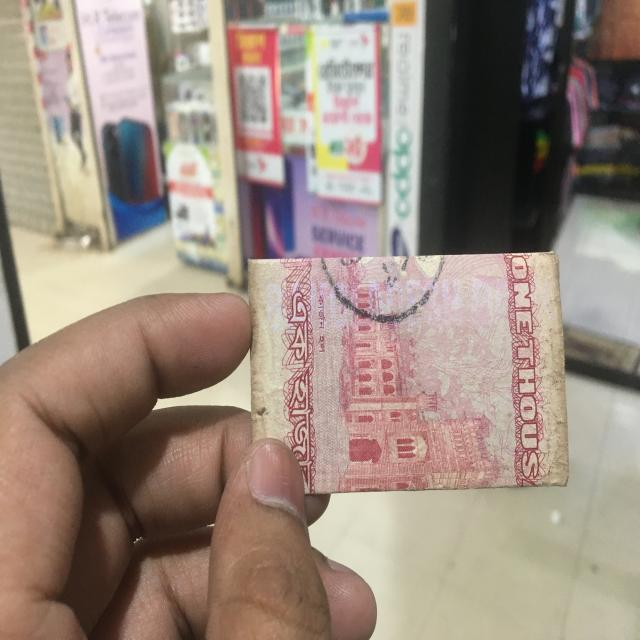Taka: (249, 253, 569, 488)
